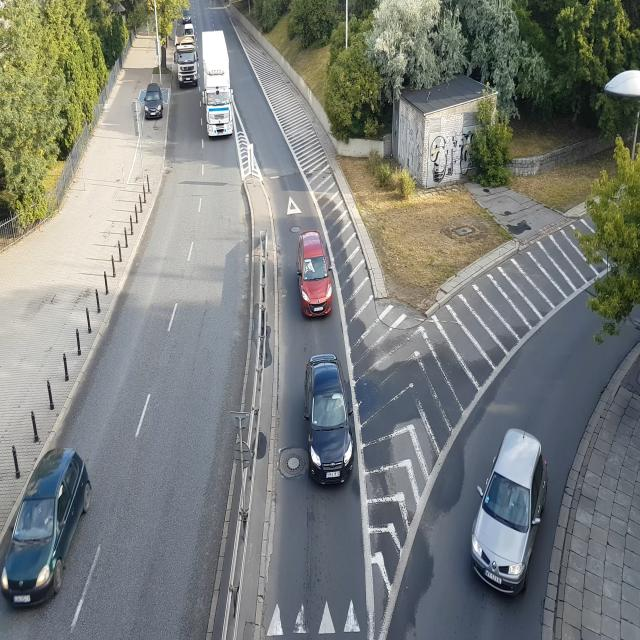car: (1, 448, 98, 604), (470, 429, 548, 594), (303, 351, 356, 489), (200, 26, 236, 136), (298, 230, 334, 319), (142, 88, 166, 120)
truck: (173, 25, 200, 87)
